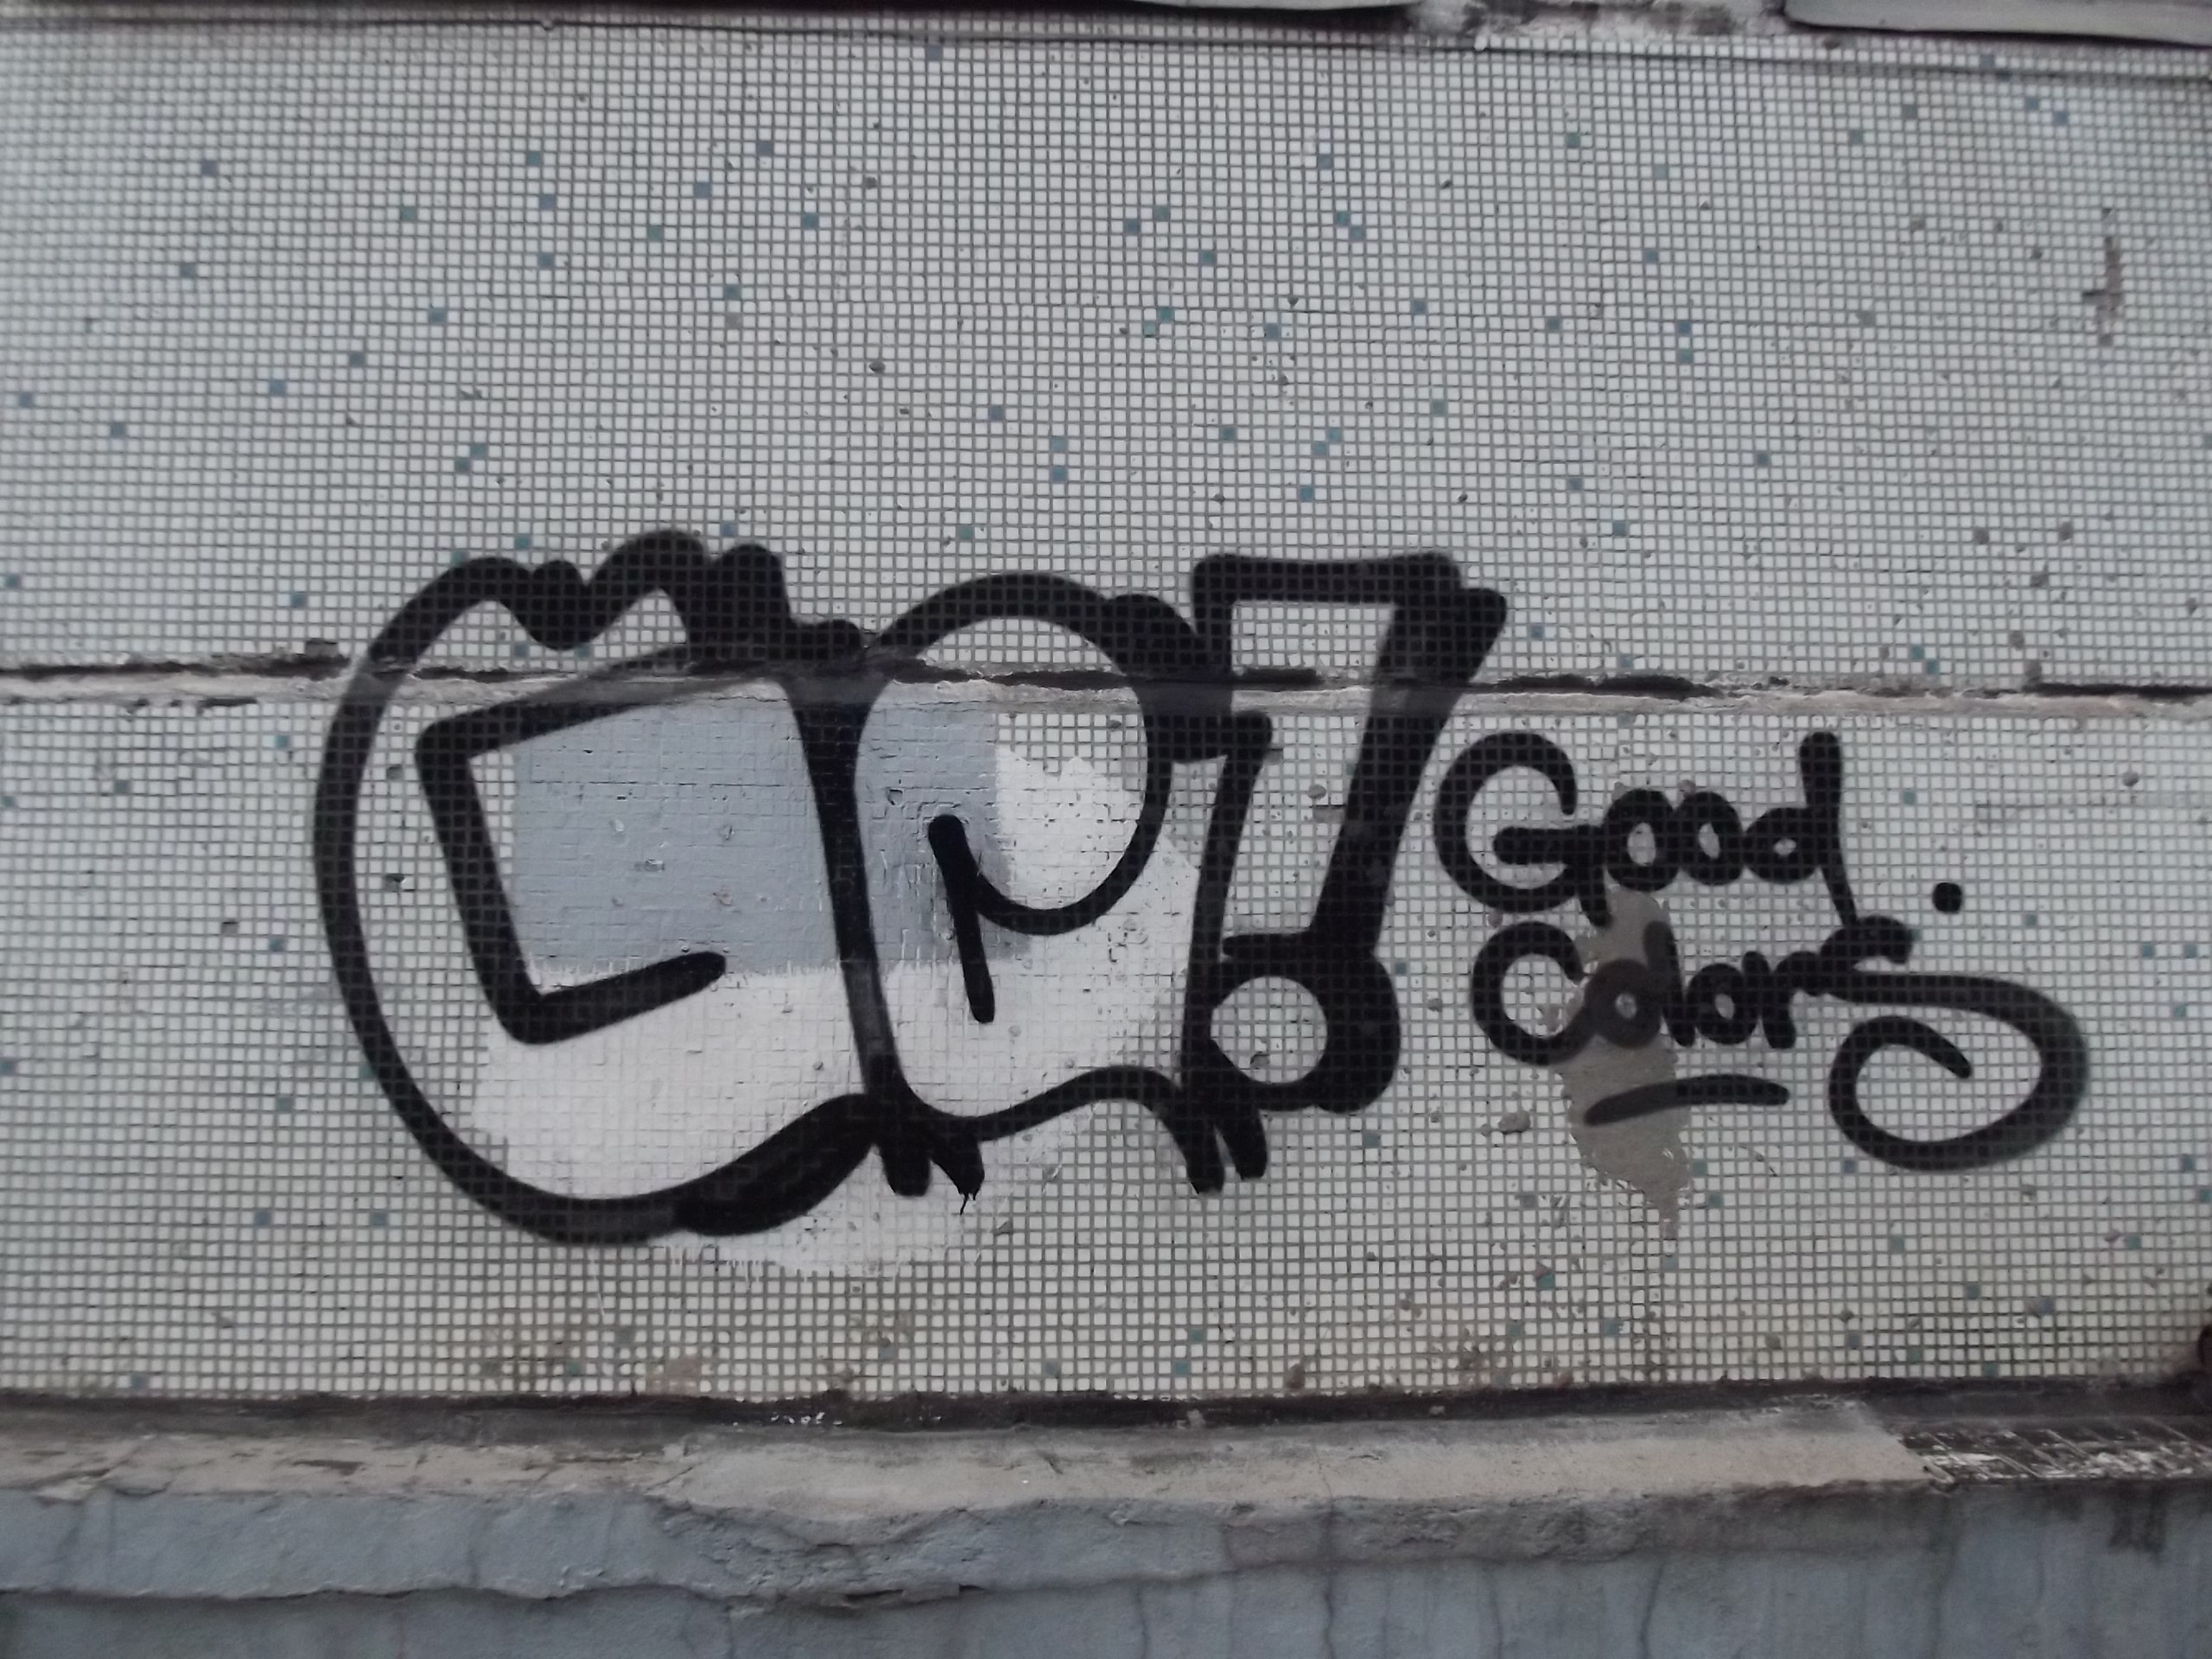graffity: (296, 505, 1529, 1253), (1428, 723, 2107, 1195)
